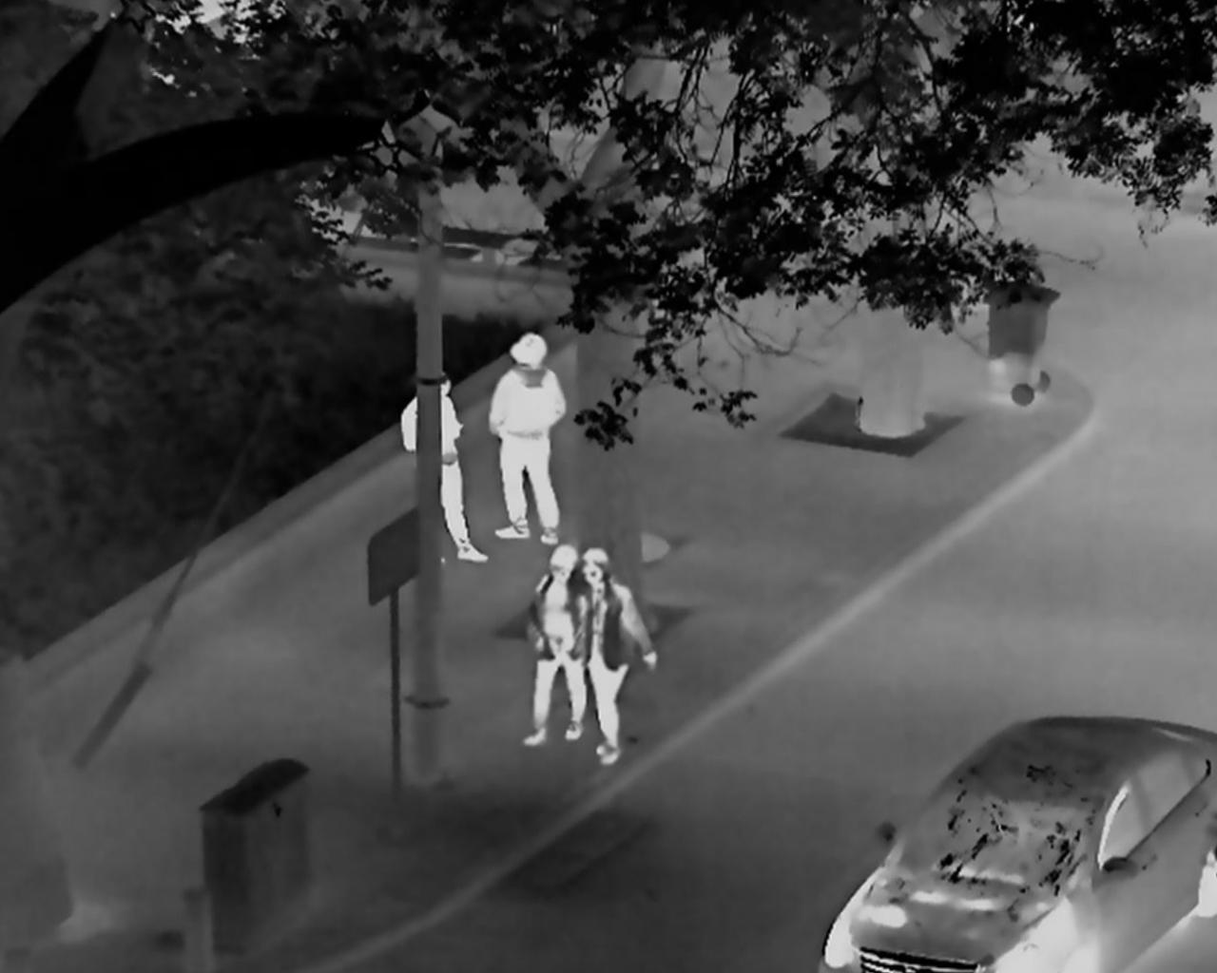person: (400, 371, 492, 565), (581, 544, 659, 765), (488, 329, 567, 545), (522, 543, 588, 747)
